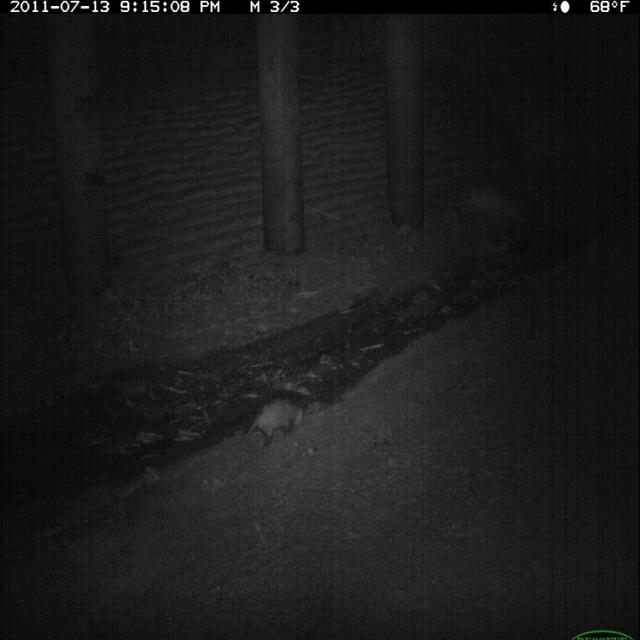opossum: (242, 394, 311, 458)
